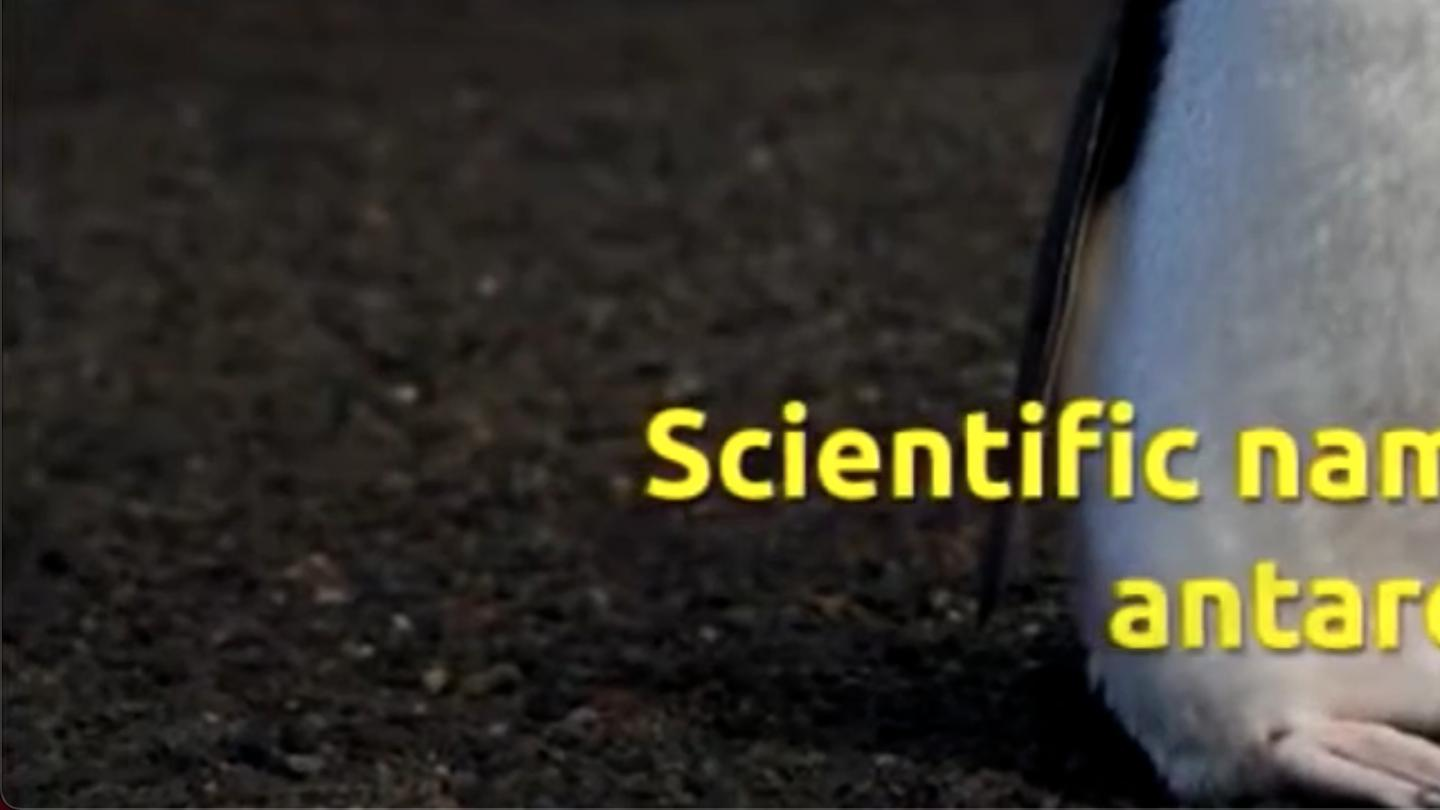Chinstrap Penguin: (976, 0, 1440, 387)
